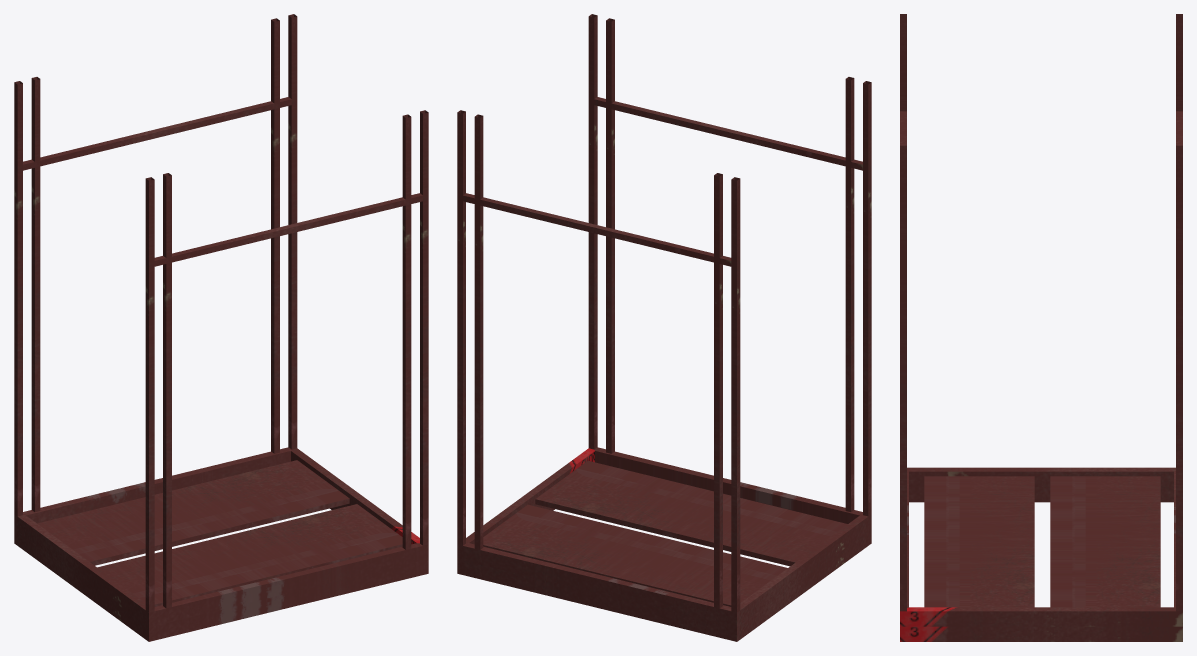
Rendered from CS_scaffolding_05.FBX.
3 views of the same model, side by side, from view 1: azimuth 30°, elevation 25°; view 2: azimuth 150°, elevation 25°; view 3: azimuth 270°, elevation 25° (orthographic). The views are drawn at different scales.
Visible parts, largest first — view 1: SM_scaffolding_05; view 2: SM_scaffolding_05; view 3: SM_scaffolding_05.
Part boxes in pixels (x1,y1,x2,y2): SM_scaffolding_05: [14, 14, 428, 641]; SM_scaffolding_05: [457, 14, 871, 641]; SM_scaffolding_05: [900, 14, 1182, 641].
Size of the model in its own units: 200 by 167 by 315.
